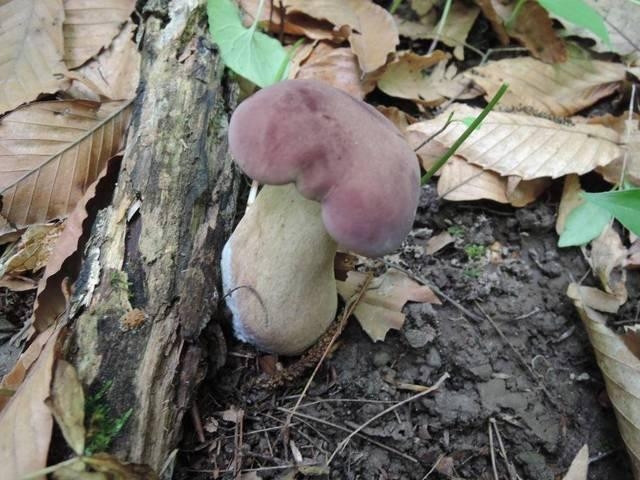Non-edible Mushroom: (218, 77, 422, 356)
